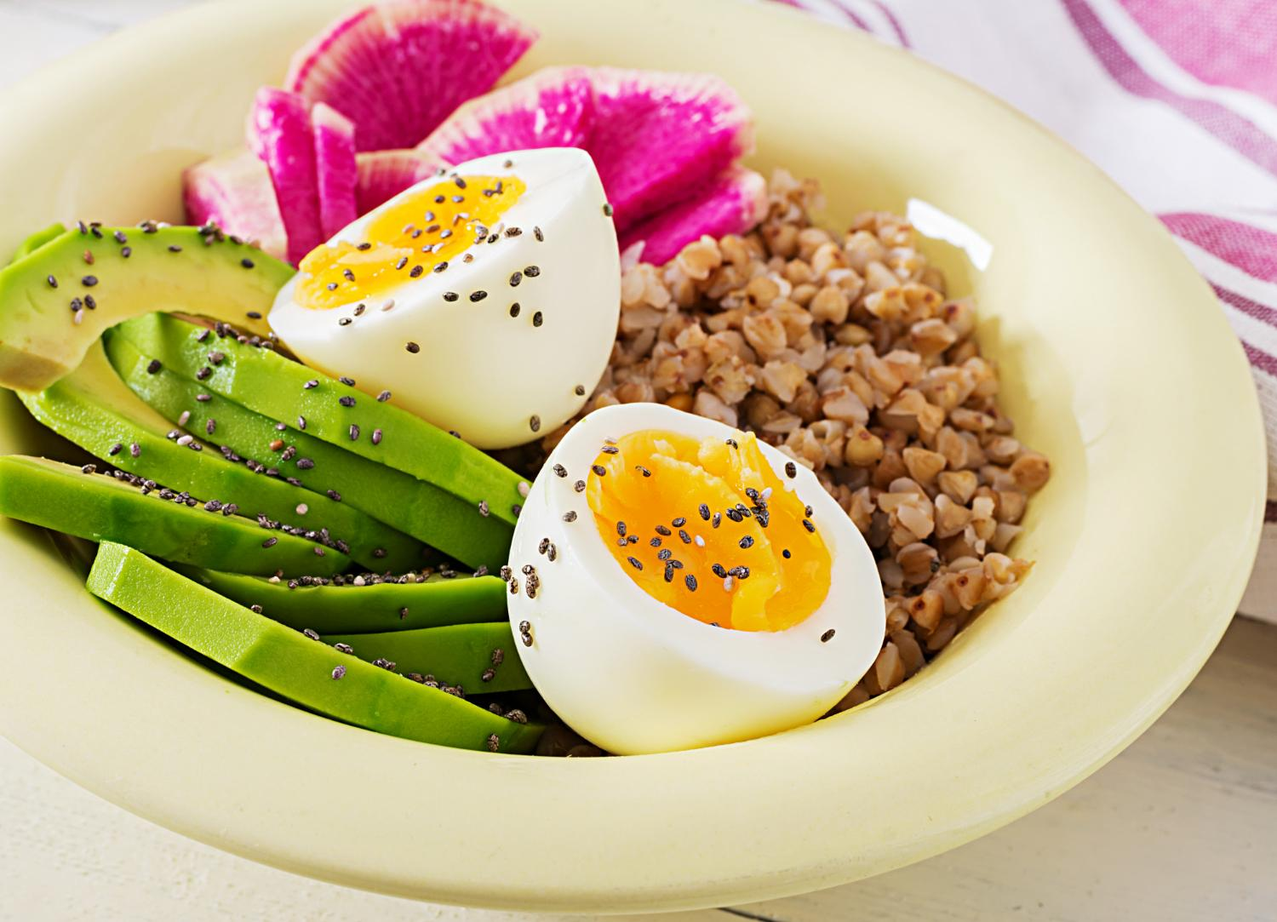buah_sayur_lainnya: (114, 404, 439, 628)
buah_sayur_vitA: (286, 81, 635, 148)
kacang_legume: (743, 250, 946, 420)
telur: (560, 450, 795, 723), (330, 221, 588, 380)
